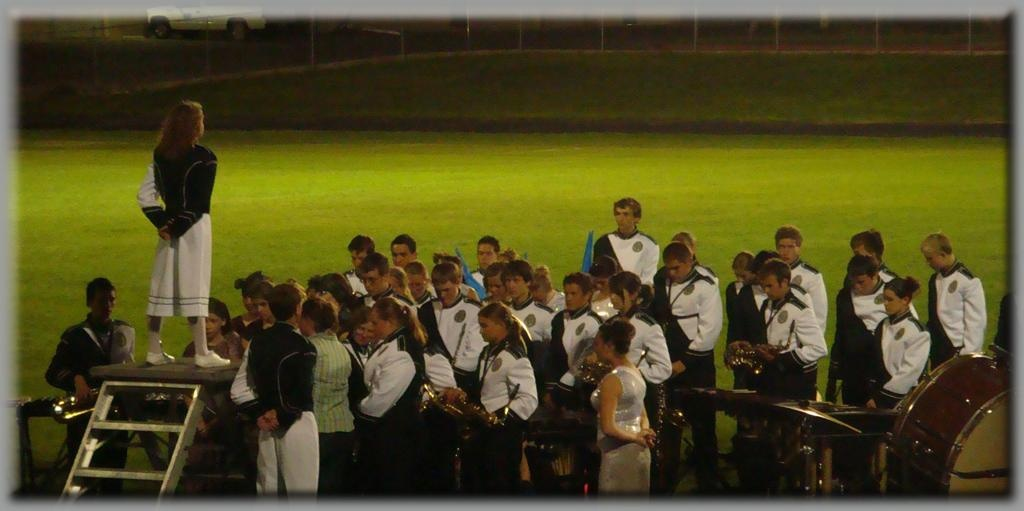human_face: (92, 289, 114, 317), (197, 312, 221, 336), (435, 280, 457, 304), (404, 273, 424, 299), (370, 310, 388, 338), (362, 267, 380, 295), (390, 244, 410, 268), (614, 206, 634, 230), (592, 331, 608, 361), (762, 276, 782, 300), (564, 284, 582, 310), (777, 239, 795, 265), (883, 289, 901, 315), (354, 322, 374, 344), (484, 276, 504, 298), (664, 258, 684, 280), (476, 244, 494, 268), (478, 316, 496, 340), (852, 245, 870, 269), (922, 246, 940, 270), (504, 276, 524, 296), (850, 273, 870, 293), (252, 298, 270, 320), (609, 286, 627, 308), (190, 110, 204, 136), (350, 248, 366, 270), (593, 274, 609, 294), (528, 280, 544, 298), (734, 267, 750, 285), (242, 290, 256, 310)
